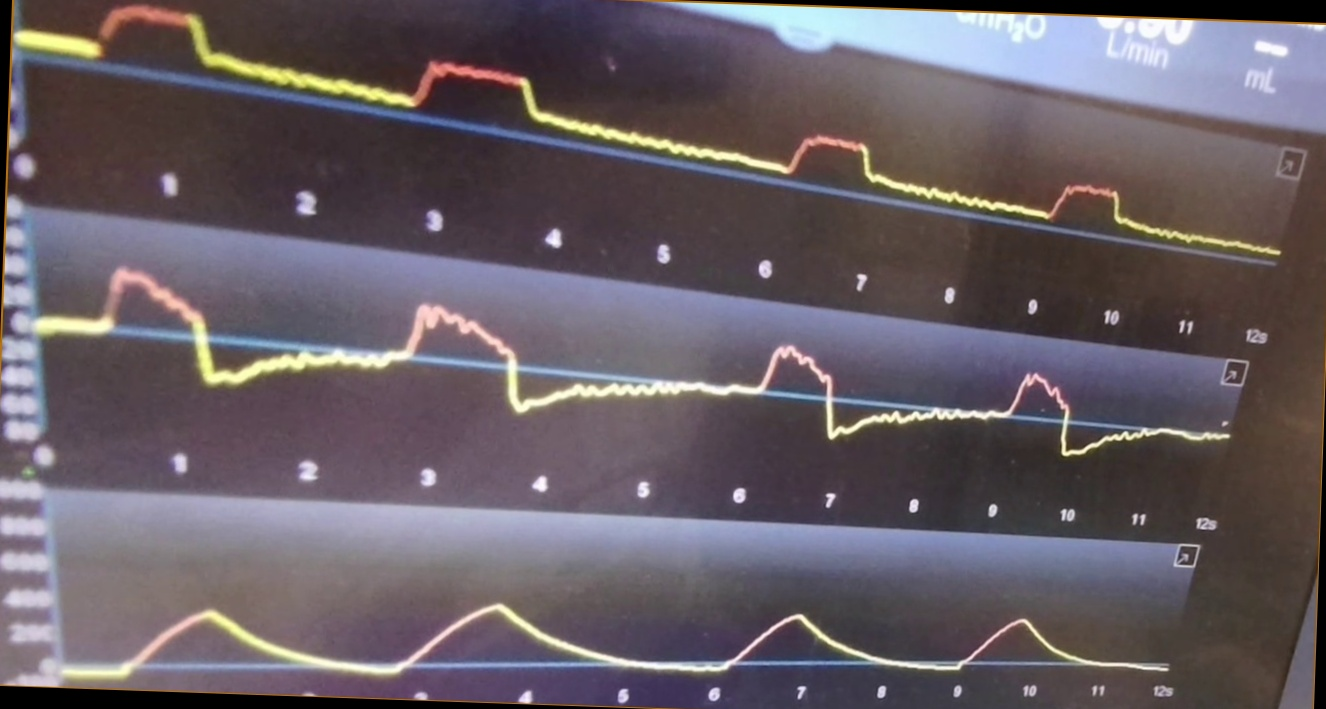Accumulation Flow: (38, 263, 1230, 466)
Volume: (65, 561, 1171, 690)
